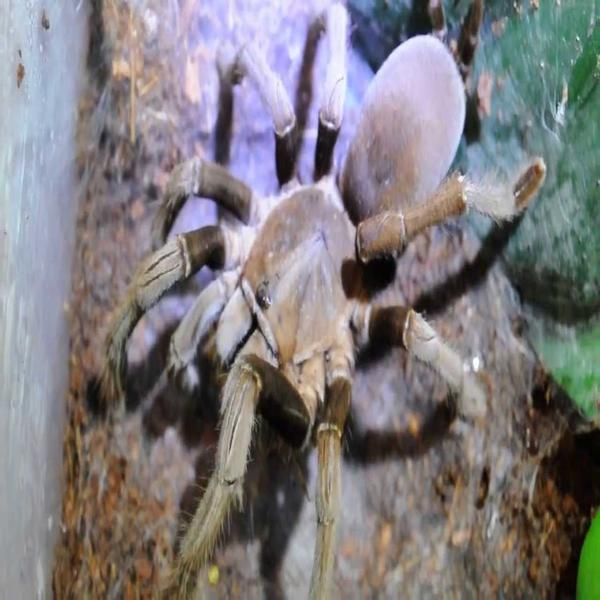Tarantula_Spider: (109, 3, 547, 600)
